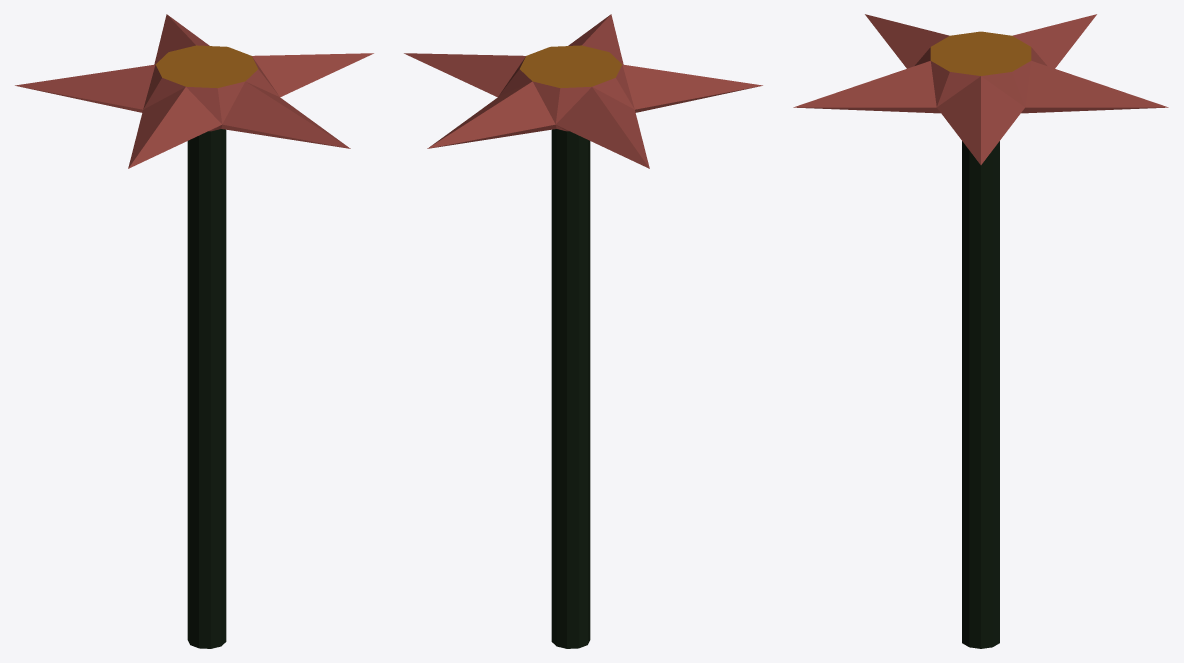
Rendered from Flower_WildPink_Single_01.fbx.
3 renders of one model, left to right at view 1: azimuth 30°, elevation 25°; view 2: azimuth 150°, elevation 25°; view 3: azimuth 270°, elevation 25°, orthographic. The views are drawn at different scales.
Visible parts, largest first — view 1: Flower_WildPink_Single_01_Mesh; view 2: Flower_WildPink_Single_01_Mesh; view 3: Flower_WildPink_Single_01_Mesh.
Boxes of the visible parts, x1,y1,x2,y2 form: Flower_WildPink_Single_01_Mesh: [15, 14, 373, 648]; Flower_WildPink_Single_01_Mesh: [404, 14, 762, 648]; Flower_WildPink_Single_01_Mesh: [793, 14, 1168, 648].
Bounding box in the file's own units: 0.1628 × 0.294 × 0.1712.
Materials: 1 (1 with a texture image).
